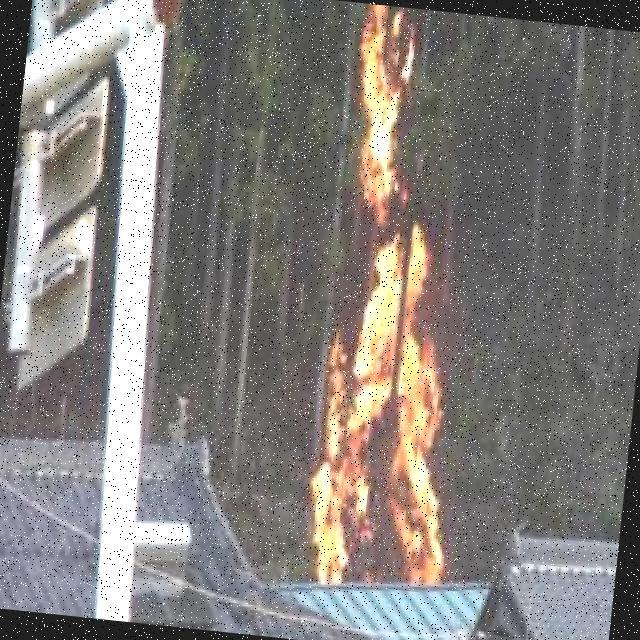Fire: (275, 14, 494, 595)
